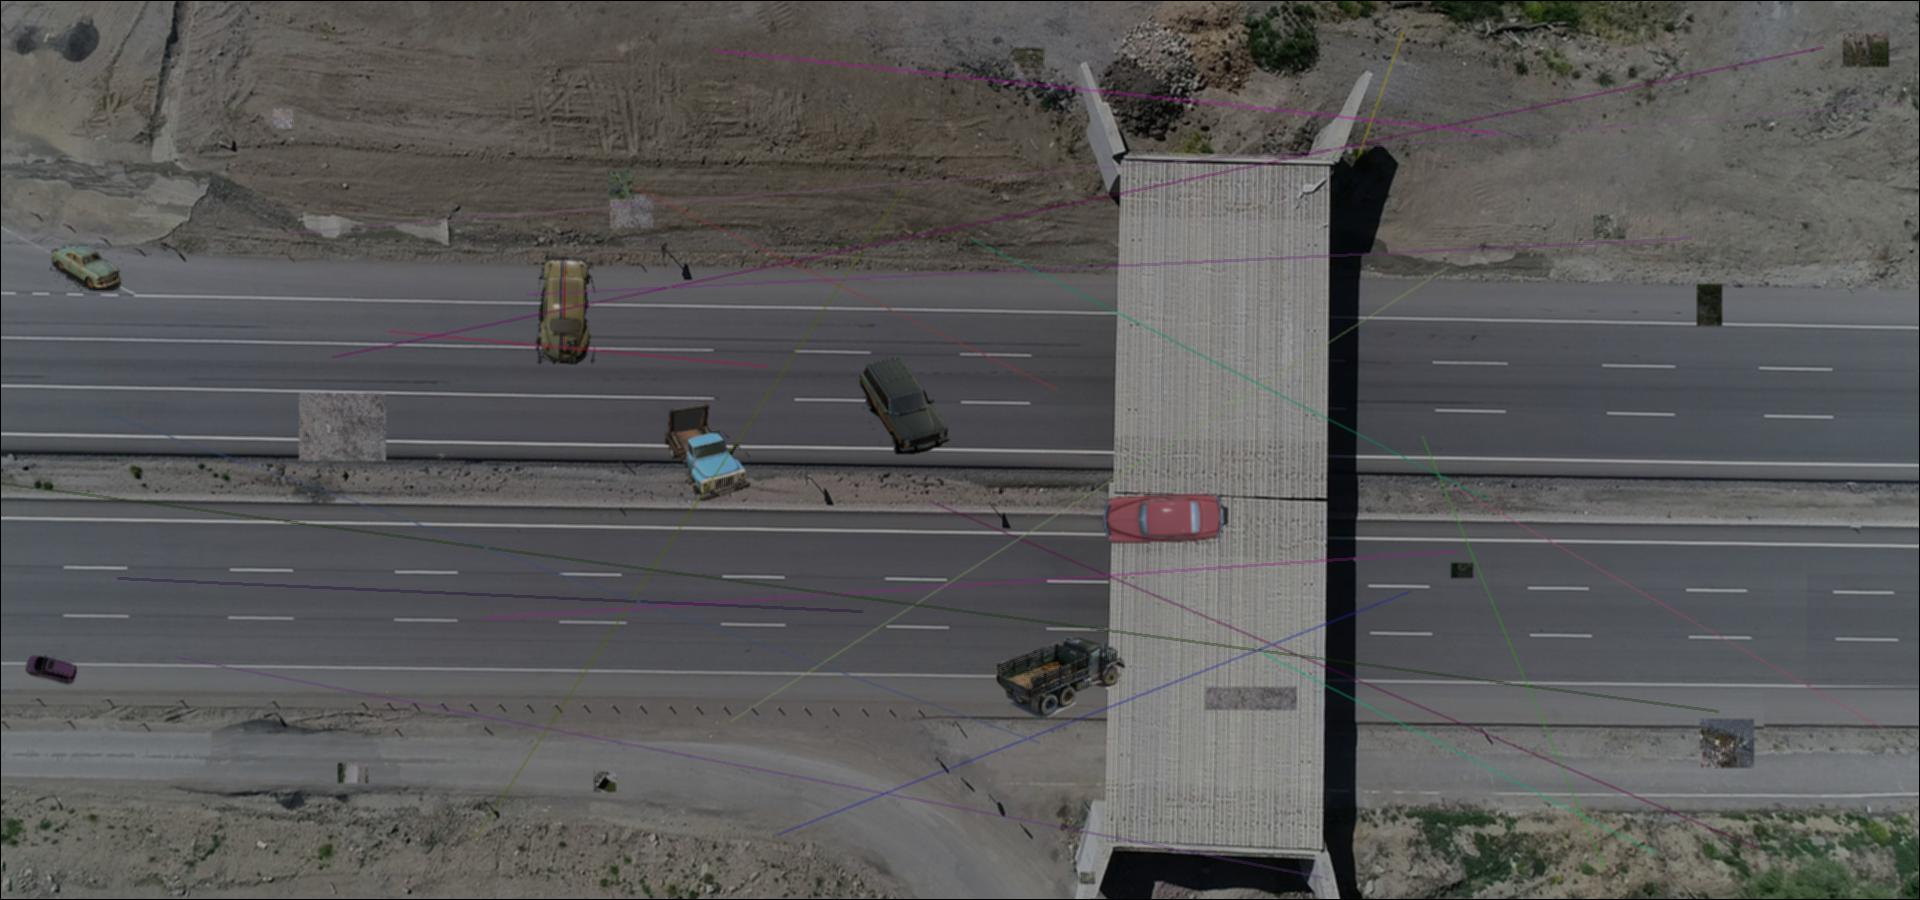arac: (993, 633, 1124, 718), (856, 358, 951, 454), (665, 402, 752, 502), (1103, 493, 1233, 544), (535, 257, 595, 364), (50, 244, 125, 291), (24, 653, 78, 688)
